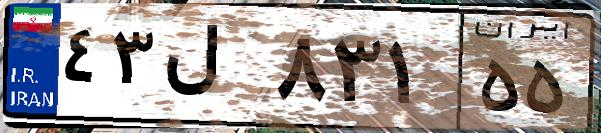1: (385, 28, 445, 110)
3: (330, 28, 385, 110), (110, 28, 158, 98)
4: (57, 26, 110, 100)
5: (475, 38, 525, 113), (525, 38, 570, 115)
8: (270, 28, 330, 110)
ل: (158, 20, 270, 120)
